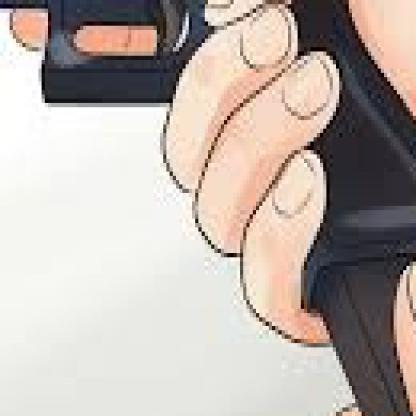gun: (0, 0, 288, 412)
